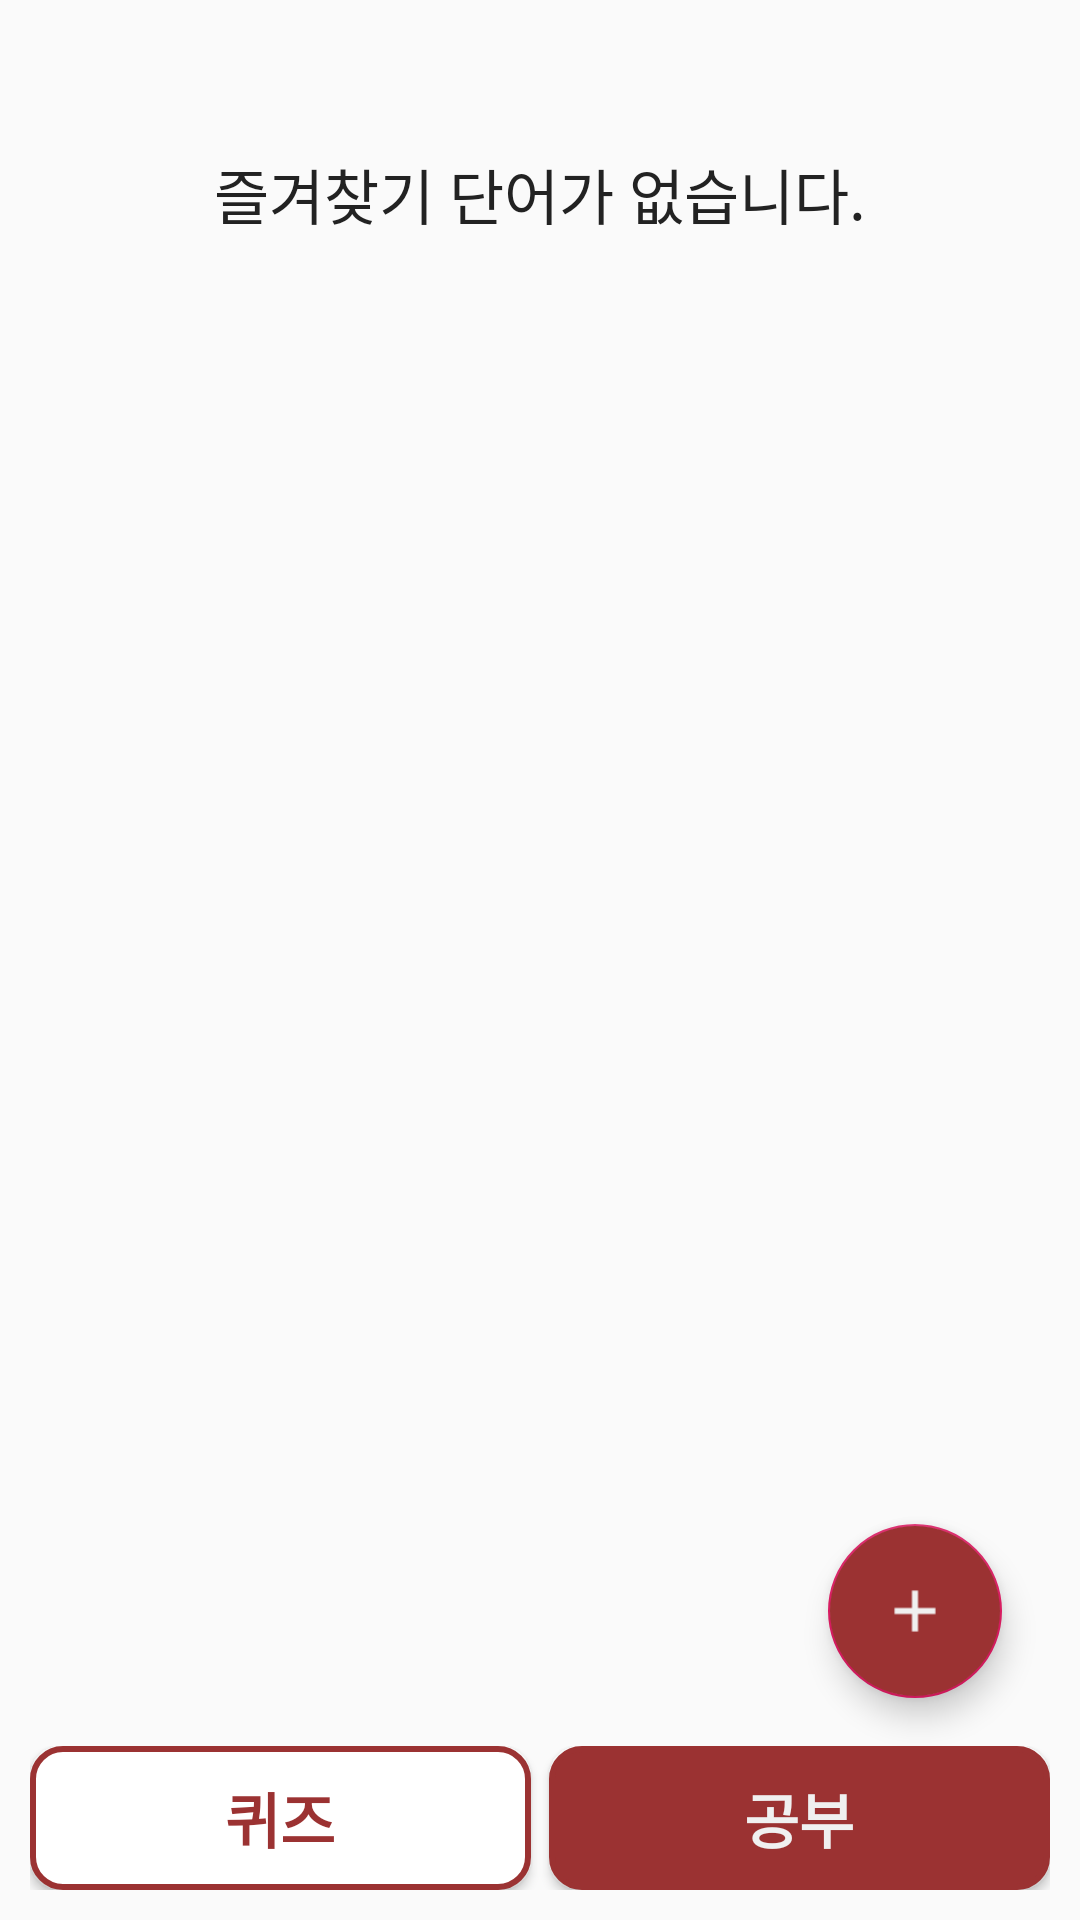

Icon bounding boxes for this 1080px×1920px phone screenshot, format (x1, y1, x2, y2):
add: (828, 1524, 1002, 1698)
